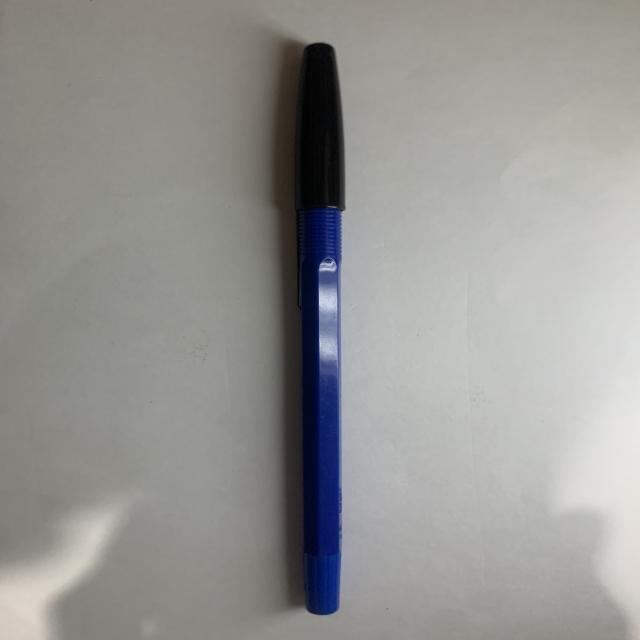Pulpen: (262, 38, 379, 628)
